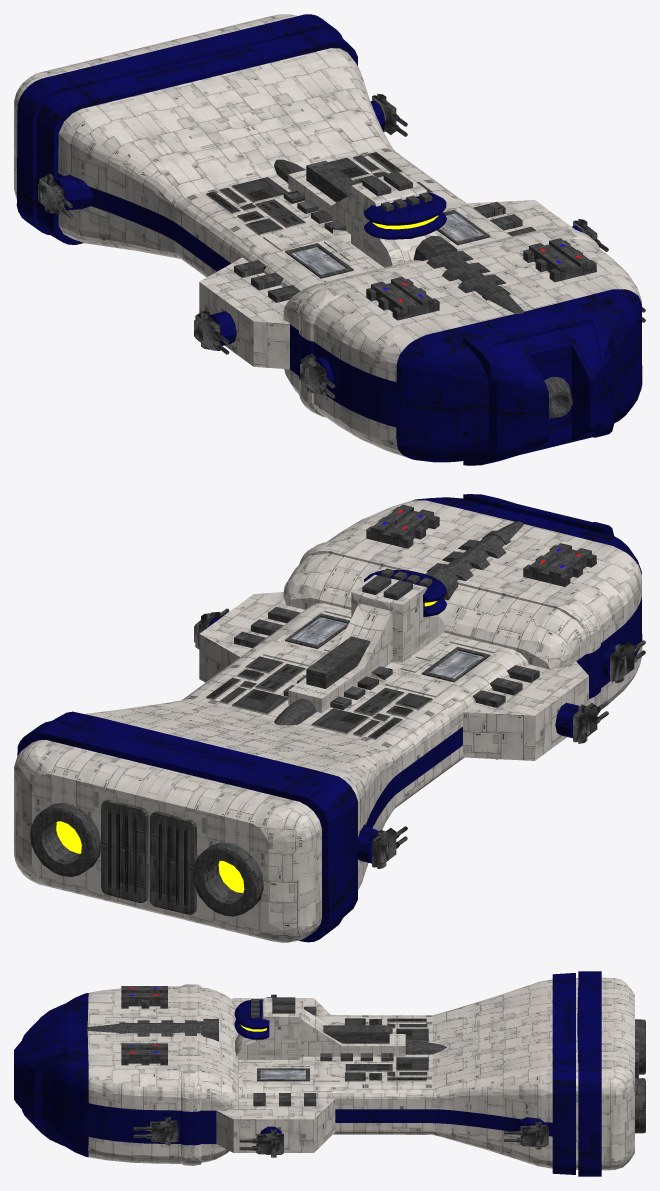
The model's file is tethys.glb.
3 views of the same model, one above another, from view 1: azimuth 30°, elevation 25°; view 2: azimuth 150°, elevation 25°; view 3: azimuth 270°, elevation 25° (orthographic). The views are drawn at different scales.
Parts seen in each view (by area): view 1: EA-Tethys-CT-NoHole; view 2: EA-Tethys-CT-NoHole; view 3: EA-Tethys-CT-NoHole.
Boxes of the visible parts, x1,y1,x2,y2 form: EA-Tethys-CT-NoHole: [14, 14, 645, 465]; EA-Tethys-CT-NoHole: [14, 494, 645, 942]; EA-Tethys-CT-NoHole: [14, 971, 645, 1176].
Bounding box in the file's own units: 5.12 × 2.1 × 9.69.
12 materials, 9 textured.
